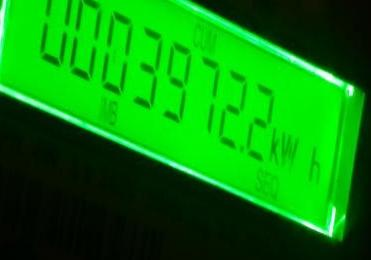.: (269, 124, 327, 187)
0: (240, 144, 245, 157)
1: (69, 0, 105, 83), (104, 7, 134, 92), (37, 1, 71, 72)
3: (217, 67, 251, 152), (244, 84, 276, 165)
4: (132, 24, 166, 110)
8: (197, 53, 222, 139)
:: (160, 39, 194, 126)
